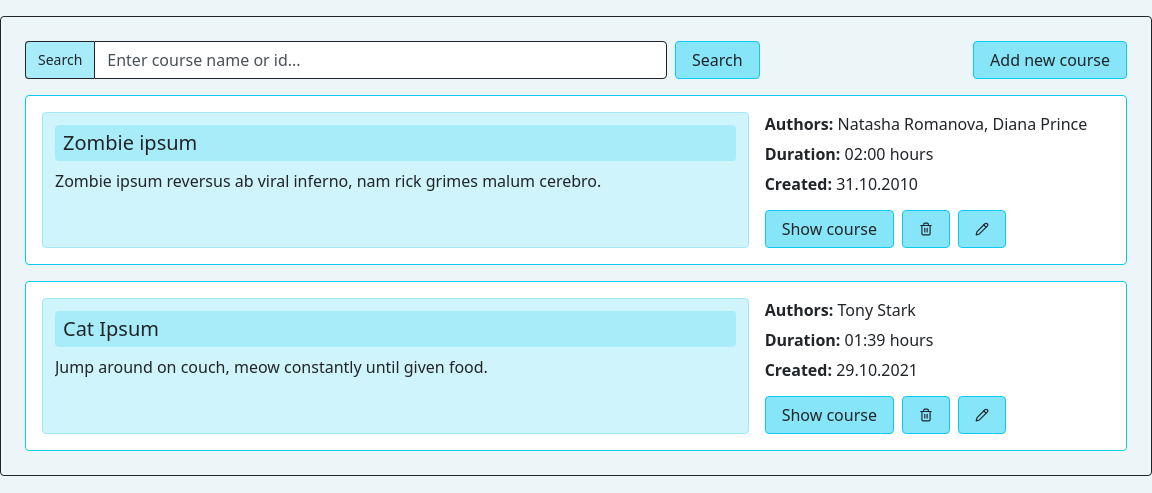
Scenario: Courses › searches by title or id, and shows everything again when the search is cleared
Type "CAT" into the search field labelled "Search" at (381, 60), box [94,41,667,79]
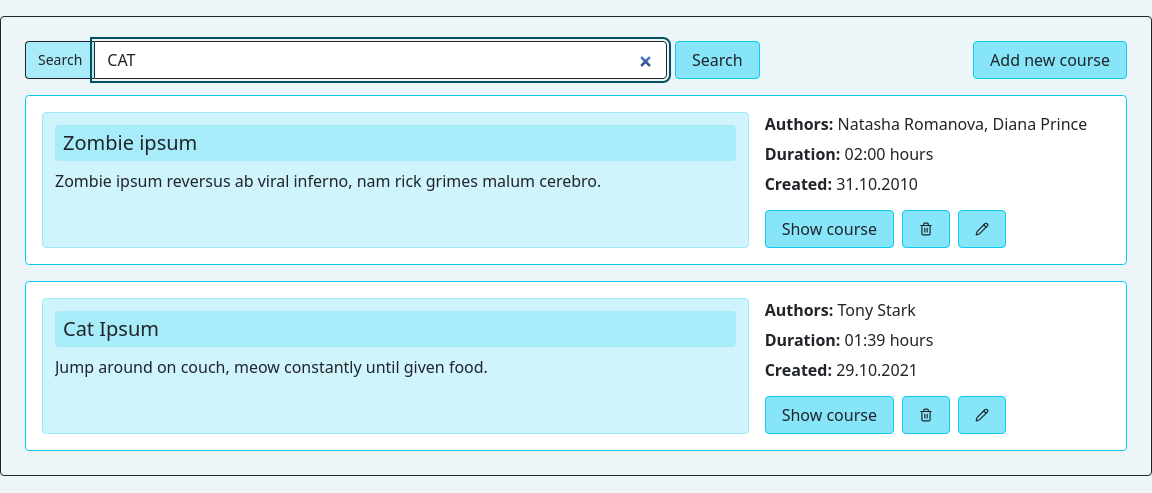
Click the button "Search" at (717, 60), box [675,41,760,79]
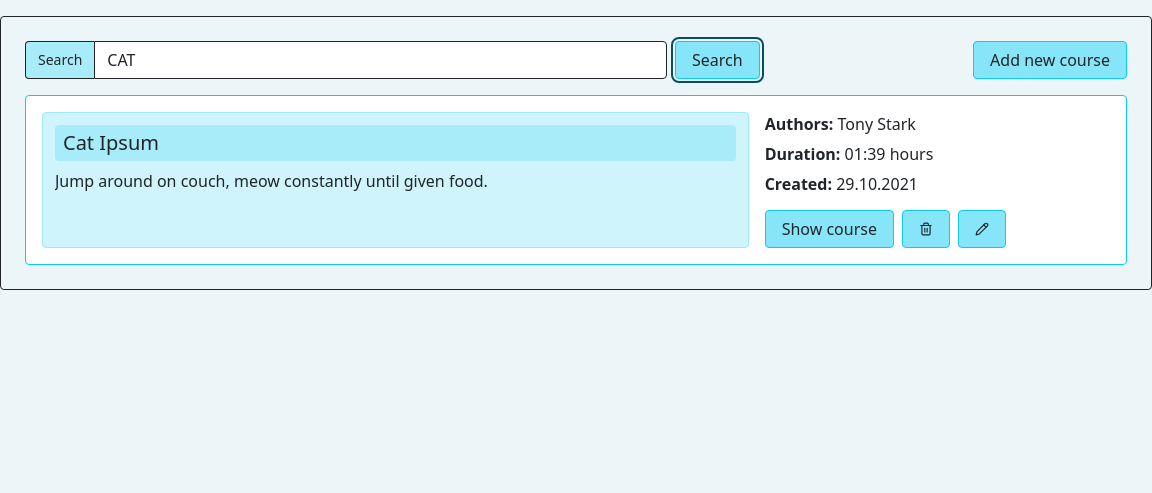
Expected: the heading "Cat Ipsum" is shown, [55,125,736,161]
Replace the text in the search field labelled "Search" with "c1" at (381, 60), box [94,41,667,79]
Then press Enter
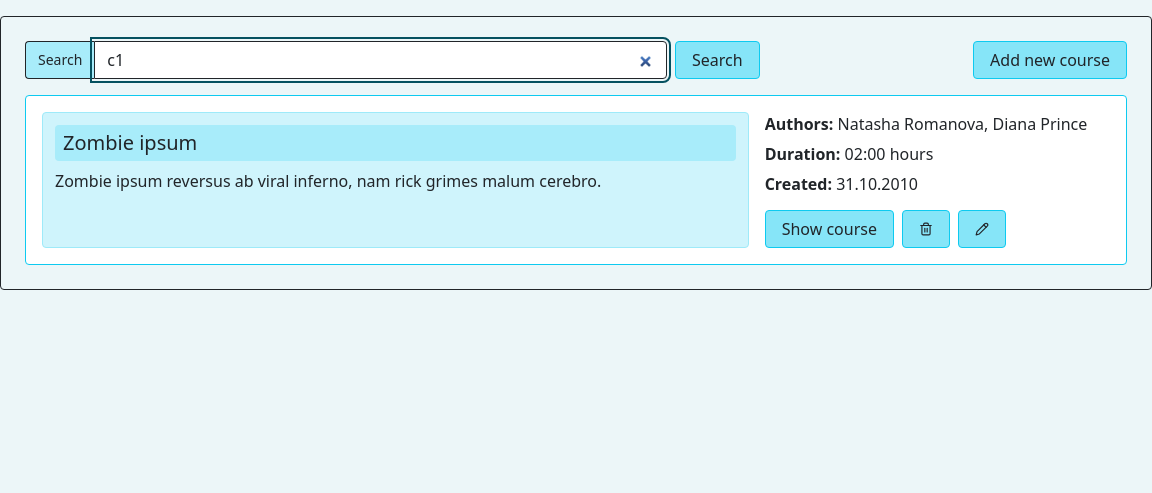
Expected: the heading "Zombie ipsum" is shown, [55,125,736,161]
Clear the search field labelled "Search" at (381, 60), box [94,41,667,79]
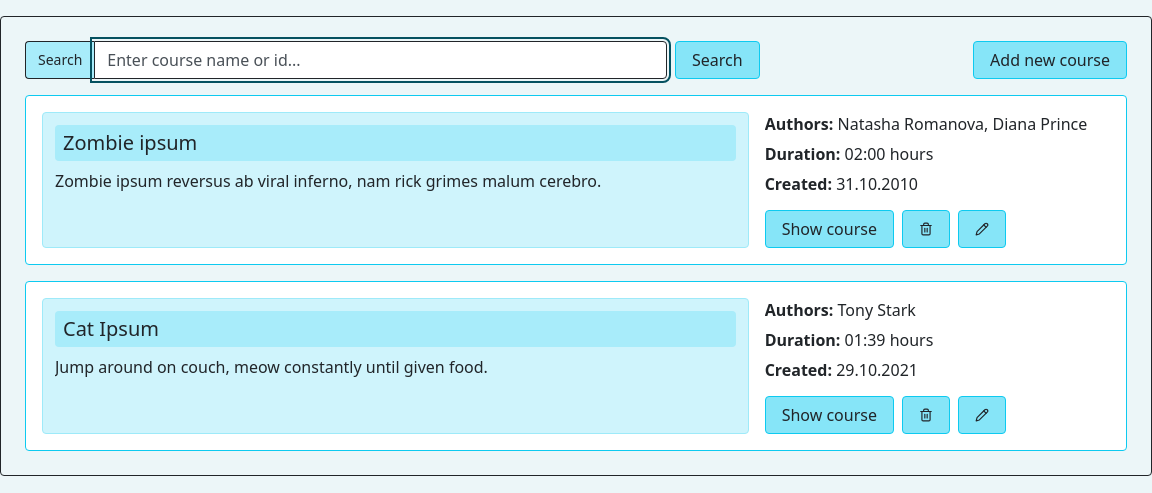
Type "unicorn" into the search field labelled "Search" at (381, 60), box [94,41,667,79]
Then press Enter
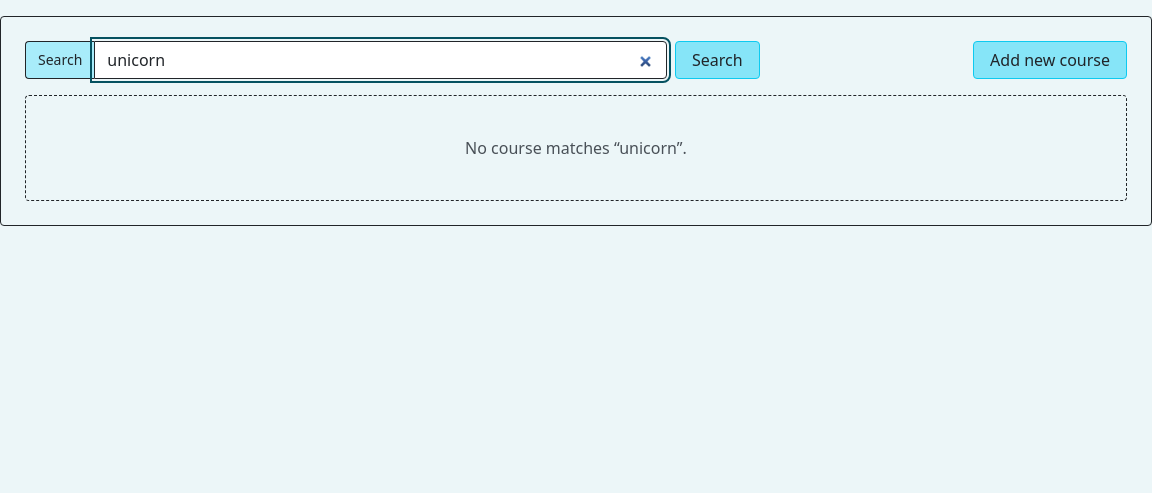
Expected: the text "No course matches “unicorn”." is shown, [25,95,1127,201]
